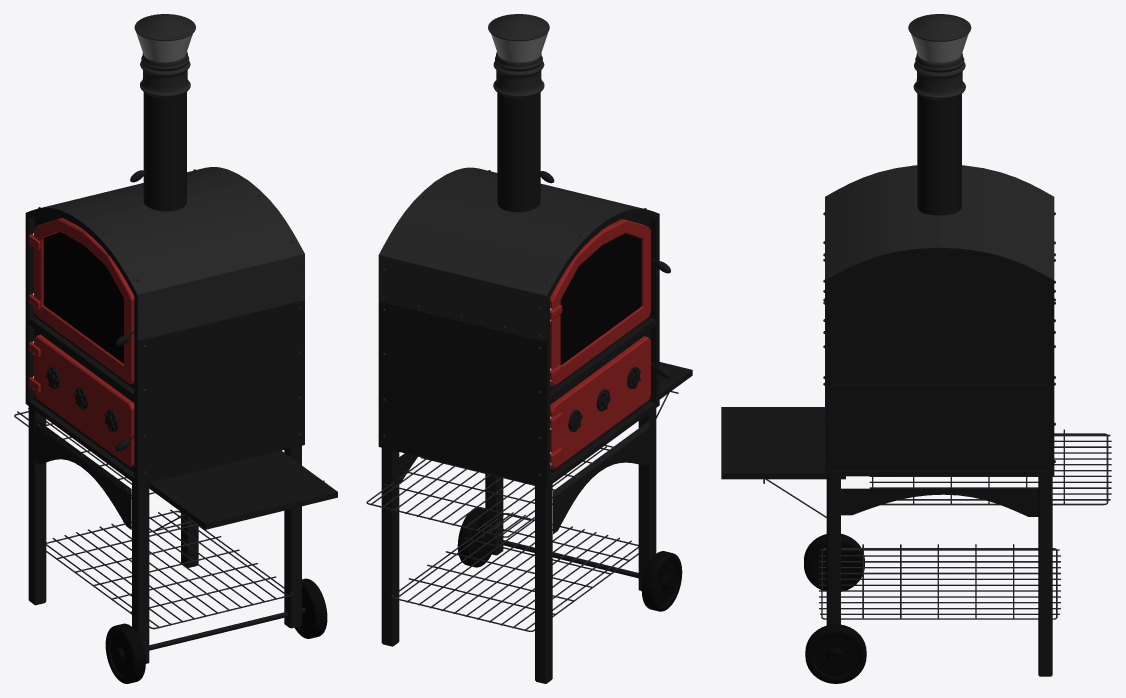
The model's file is barbecue.FBX.
3 renders of one model, left to right at view 1: azimuth 30°, elevation 25°; view 2: azimuth 150°, elevation 25°; view 3: azimuth 270°, elevation 25°, orthographic. The views are drawn at different scales.
Parts seen in each view (by area): view 1: arch22_103_34, forno pizza, Box002, Circle002, arch22_103_68, Box005, Line001, arch22_103_01, arch22_103_02, Line002, arch22_103_00, Box006 (+2 smaller); view 2: arch22_103_34, forno pizza, Box002, Circle002, arch22_103_68, Box005, Line001, arch22_103_069, arch22_103_01, arch22_103_02, Line002, Box006 (+2 smaller); view 3: arch22_103_34, forno pizza, arch22_103_68, Circle002, arch22_103_069, Line001, arch22_103_02, arch22_103_01, Line002.
Part boxes in pixels (box(x1,y1,x2,y2)): arch22_103_34: box(25, 207, 337, 663); forno pizza: box(35, 167, 304, 495); Box002: box(34, 334, 134, 466); Circle002: box(143, 92, 186, 211); arch22_103_68: box(46, 509, 292, 629); Box005: box(34, 218, 134, 384); Line001: box(134, 14, 195, 97); arch22_103_01: box(105, 623, 145, 683); arch22_103_02: box(295, 578, 327, 638); Line002: box(136, 32, 192, 62); arch22_103_00: box(149, 607, 305, 650); Box006: box(46, 367, 118, 431); arch22_103_34: box(378, 208, 692, 683); forno pizza: box(378, 167, 649, 497); Box002: box(550, 336, 650, 469); Circle002: box(497, 92, 540, 212); arch22_103_68: box(391, 512, 638, 631); Box005: box(550, 219, 650, 385); Line001: box(488, 14, 549, 98); arch22_103_069: box(366, 391, 678, 537); arch22_103_01: box(641, 551, 682, 611); arch22_103_02: box(457, 507, 491, 567); Line002: box(491, 32, 548, 62); Box006: box(568, 367, 640, 431); arch22_103_34: box(721, 247, 1054, 675); forno pizza: box(825, 165, 1054, 280); arch22_103_68: box(819, 544, 1060, 619); Circle002: box(917, 93, 961, 215); arch22_103_069: box(763, 429, 1111, 517); Line001: box(908, 14, 971, 99); arch22_103_02: box(805, 624, 866, 683); arch22_103_01: box(804, 534, 864, 591); Line002: box(911, 34, 968, 62).
Bounding box in the file's own units: 49.1 × 141 × 80.87.
